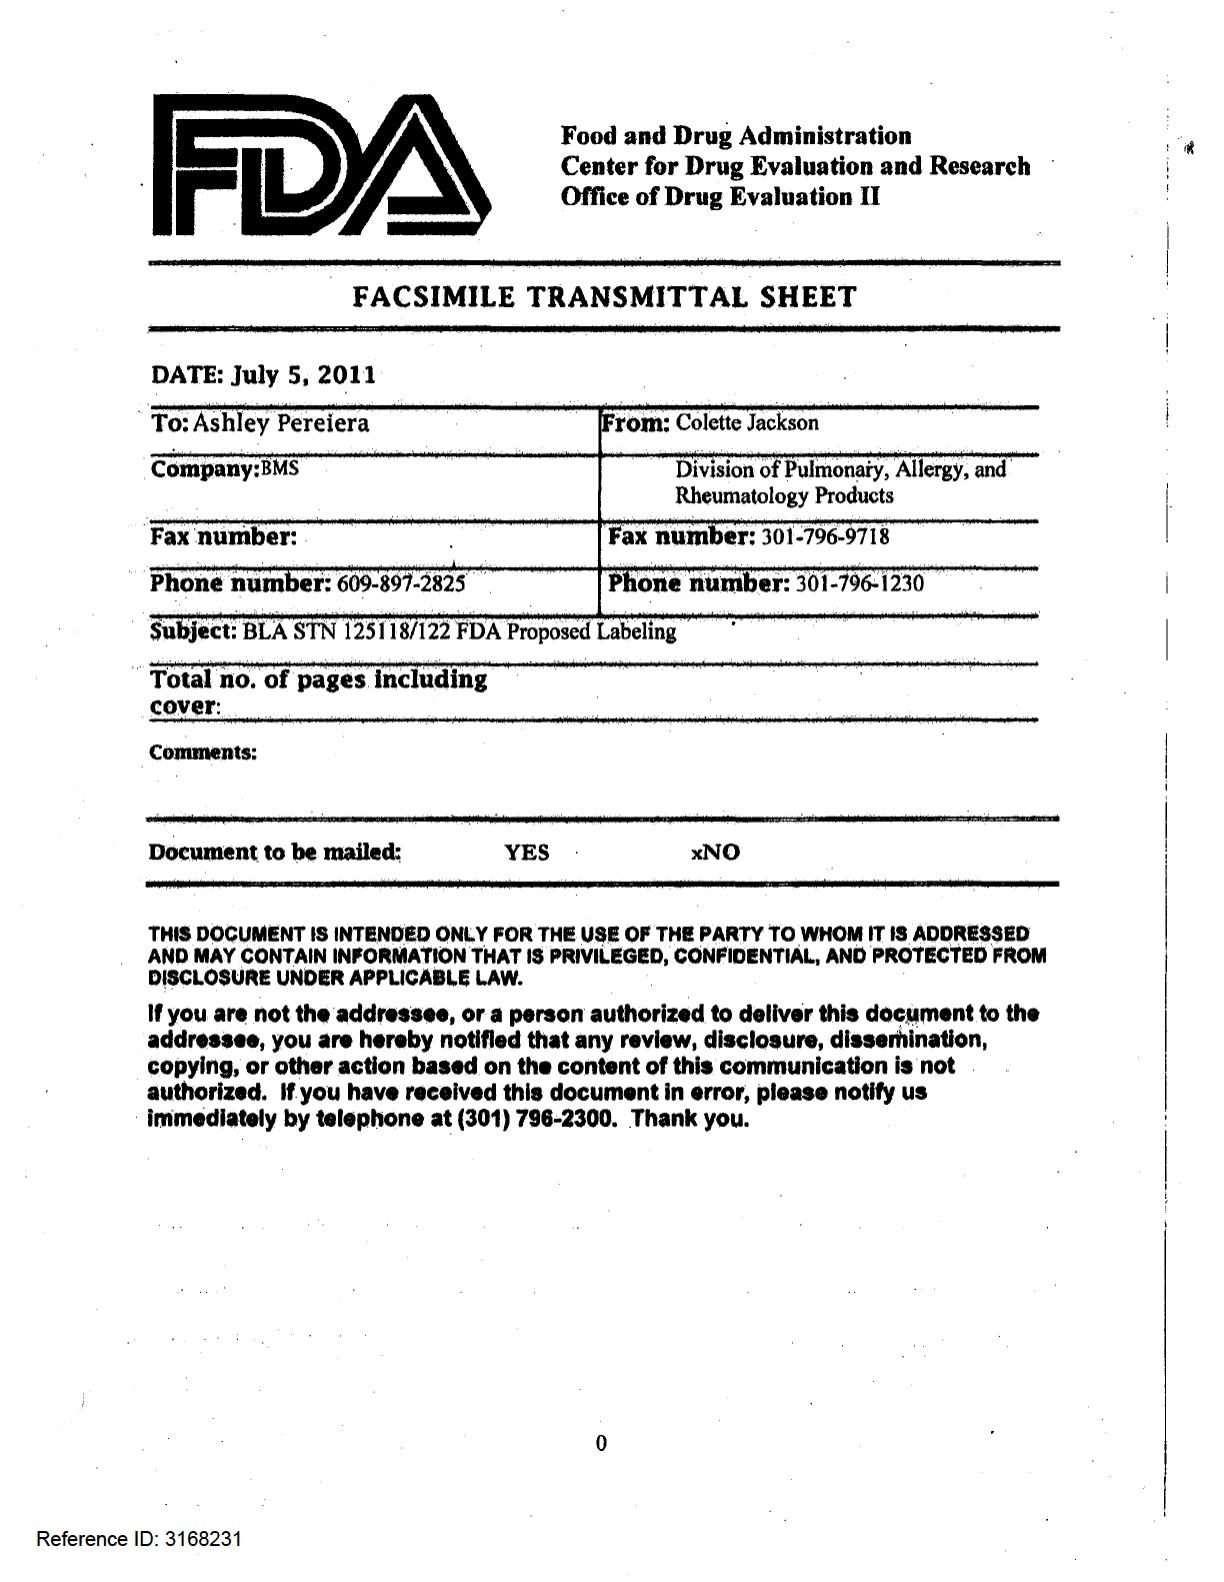partial_lined_merged_cells: (146, 325, 1065, 887)
